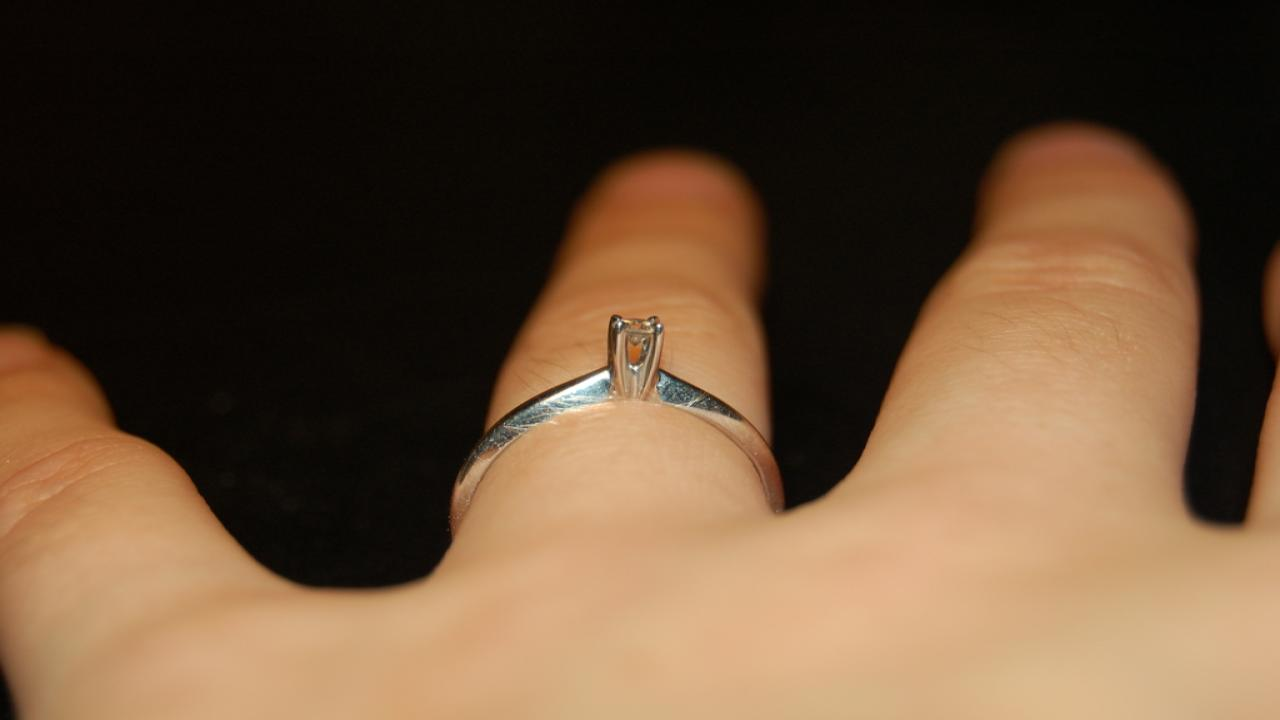ring: (444, 315, 794, 517)
